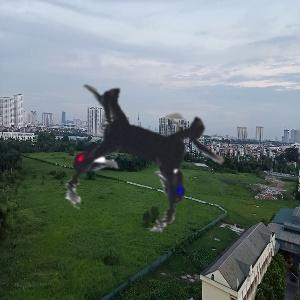drone: (5, 9, 291, 295)
